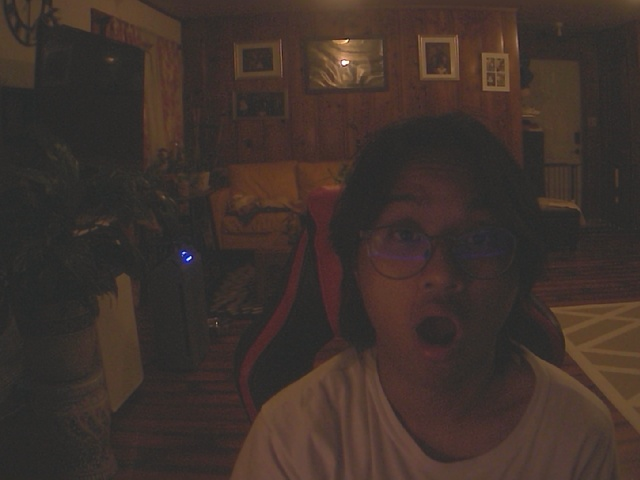fear: (326, 109, 548, 381)
